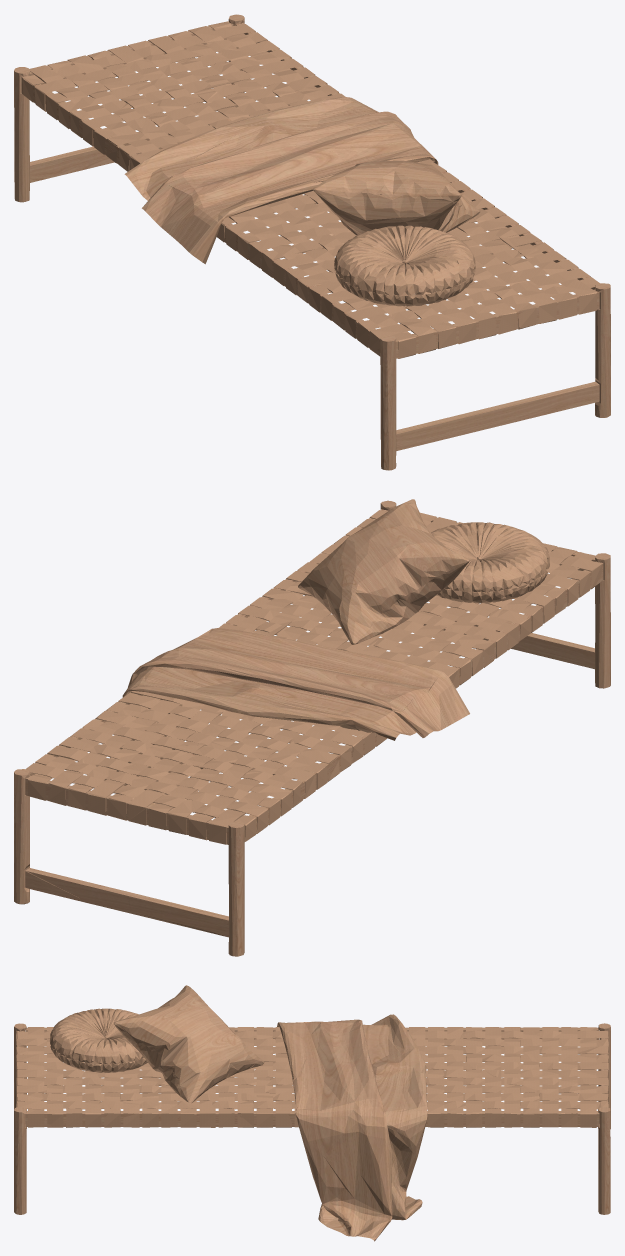
The model's file is vadehavet-daybed.glb.
The picture shows the model from 3 angles, top to bottom: view 1: azimuth 30°, elevation 25°; view 2: azimuth 150°, elevation 25°; view 3: azimuth 270°, elevation 25°; orthographic projection. The views are drawn at different scales.
Parts seen in each view (by area): view 1: product; view 2: product; view 3: product.
Part boxes in pixels (box(x1,y1,x2,y2)): product: box(14, 14, 610, 470); product: box(14, 499, 610, 956); product: box(14, 985, 610, 1241).
Size of the model in its own units: 0.5095 by 0.3034 by 1.
1 material, 1 textured.
